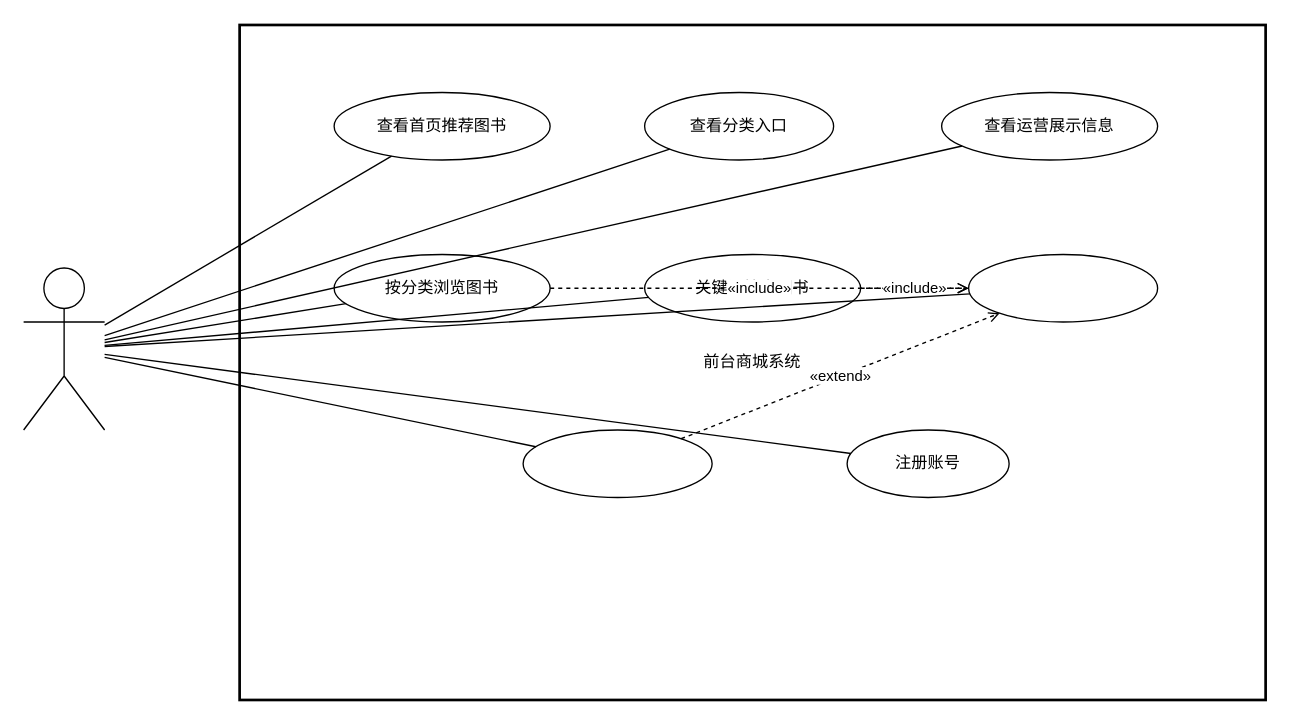
The diagram is 1291 pixels wide and 724 high, and some of its shapes have lost their labels. Here are the shapes that lost their labels. From the top down, the box of each, then its label:
(967, 253, 1158, 322): 查看图书列表
(22, 267, 105, 430): 游客
(522, 429, 712, 497): 查看图书详情
